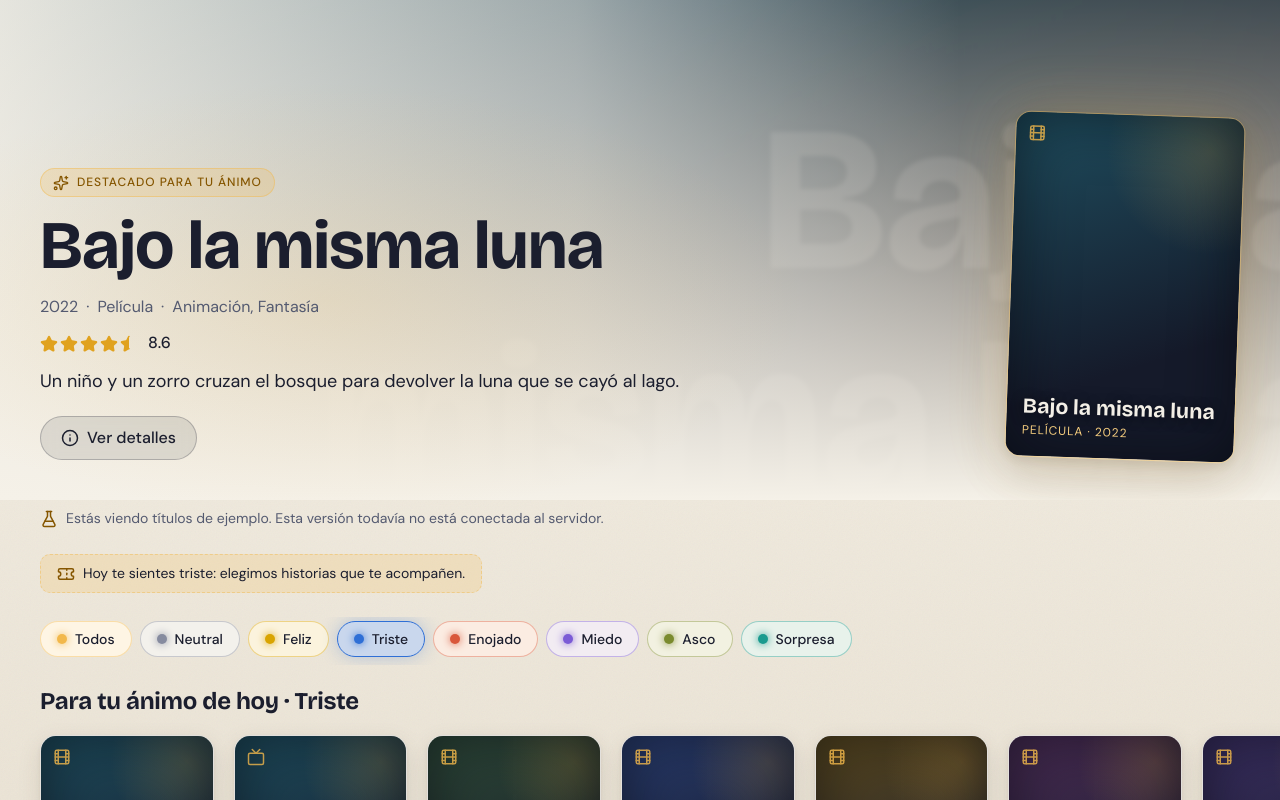
Test case: Recomendaciones › filtra por ánimo con los chips y parte del ánimo detectado
expect the heading "Para tu ánimo de hoy · Triste" is shown: met, box left=40, top=689, right=359, bottom=715
Click the button "Asco" at (690, 639), box left=647, top=621, right=732, bottom=657
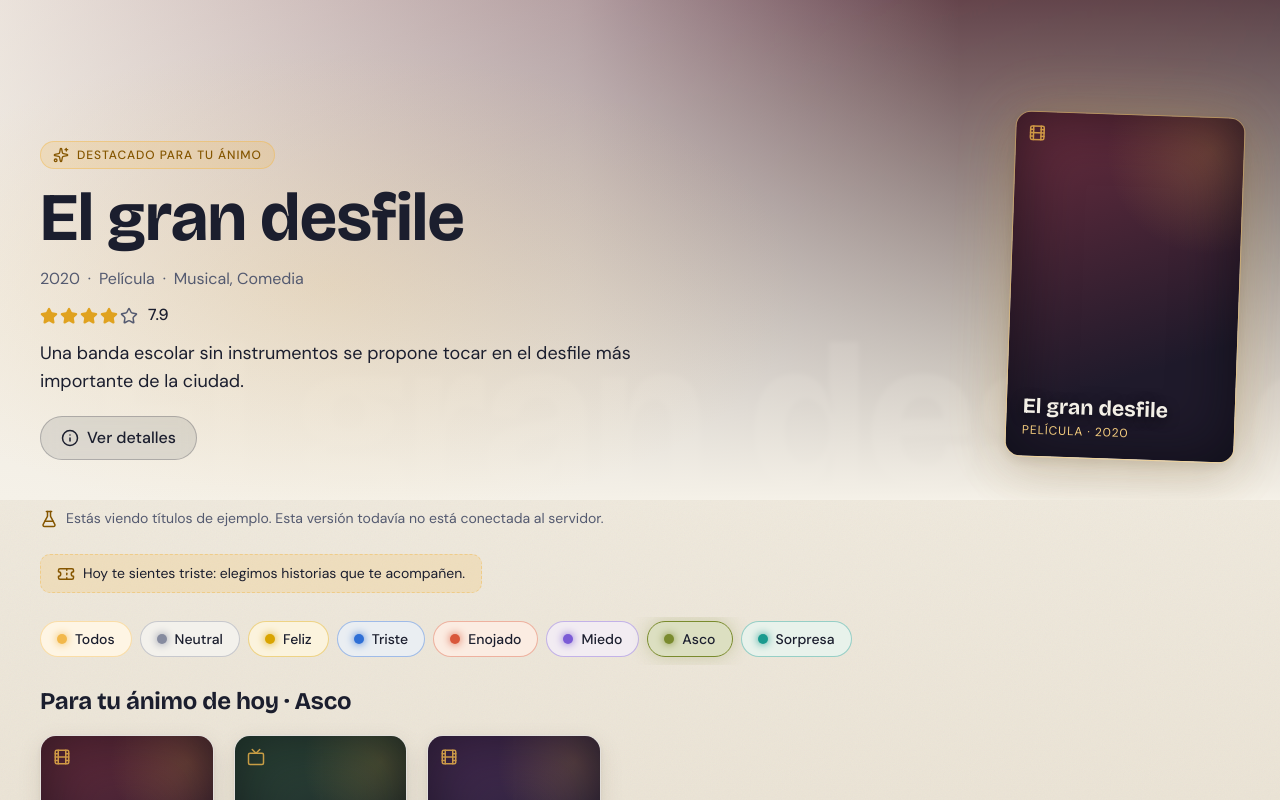
expect the heading "Para tu ánimo de hoy · Asco" is shown: met, box left=40, top=689, right=351, bottom=715
